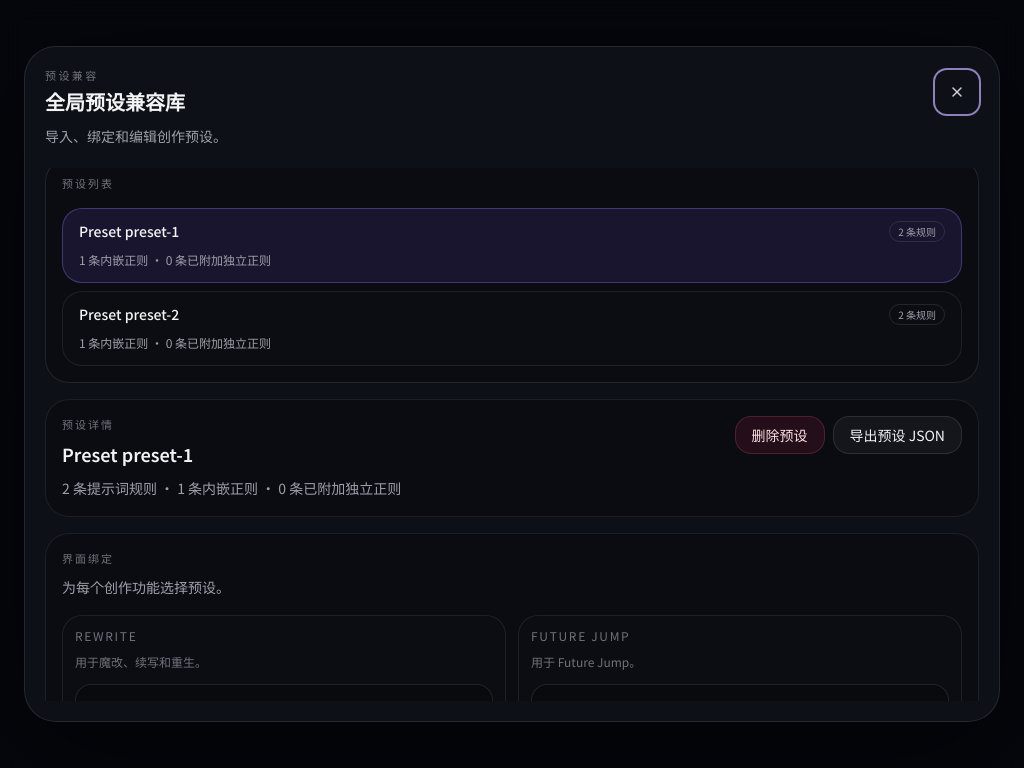
Scenario: PresetCompatLibraryModal › deletes and saves the selected preset, clears matching surface bindings, and keeps standalone regexes intact
(page scrolled)
Click the button with test id "preset-compat-preset-delete-preset-1" at (780, 435), box [734,416,824,454]
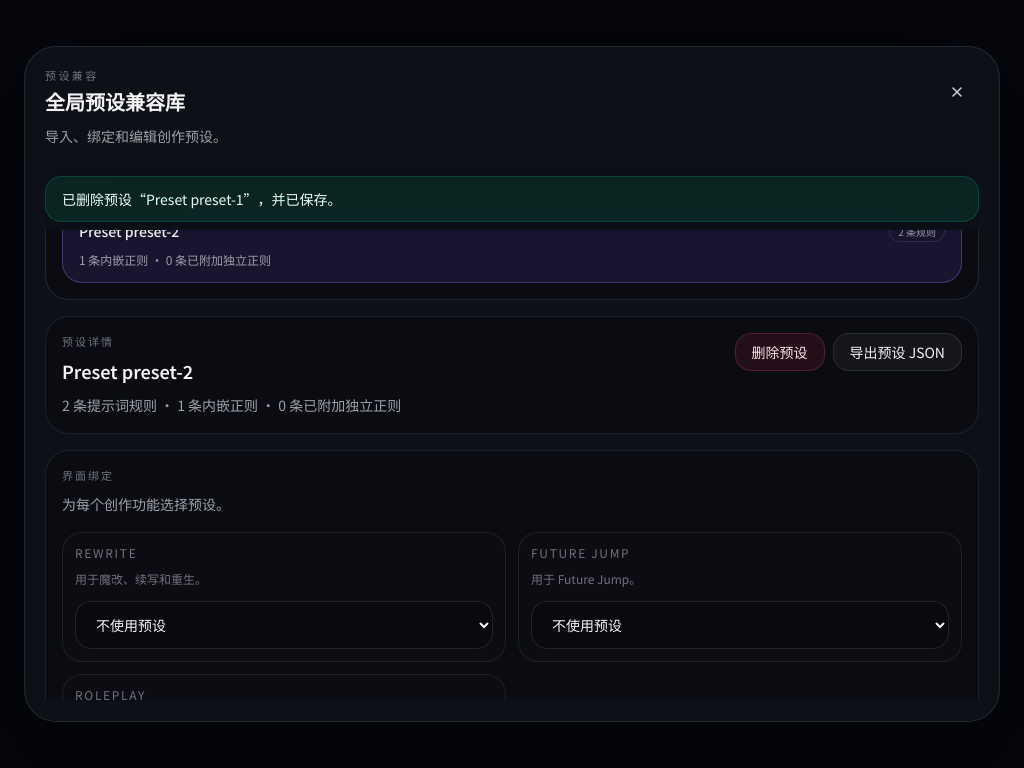
Expected: the text "已删除预设“Preset preset-1”，并已保存。" is shown, [45,176,979,222]
Expected: the heading "Preset preset-2" is shown, [62,358,193,384]
